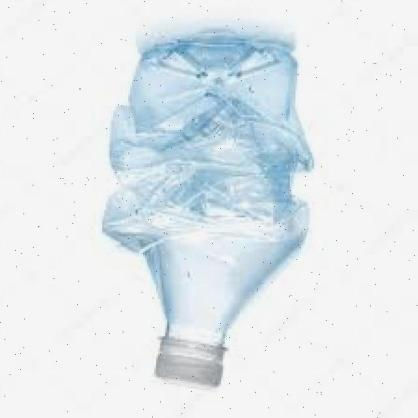bottle: (100, 36, 314, 396)
cap: (152, 337, 229, 393)
